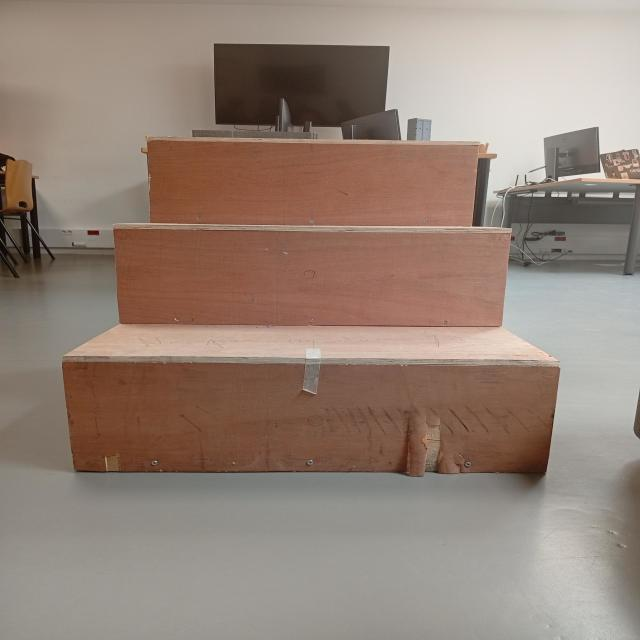Stairs: (47, 114, 608, 509)
